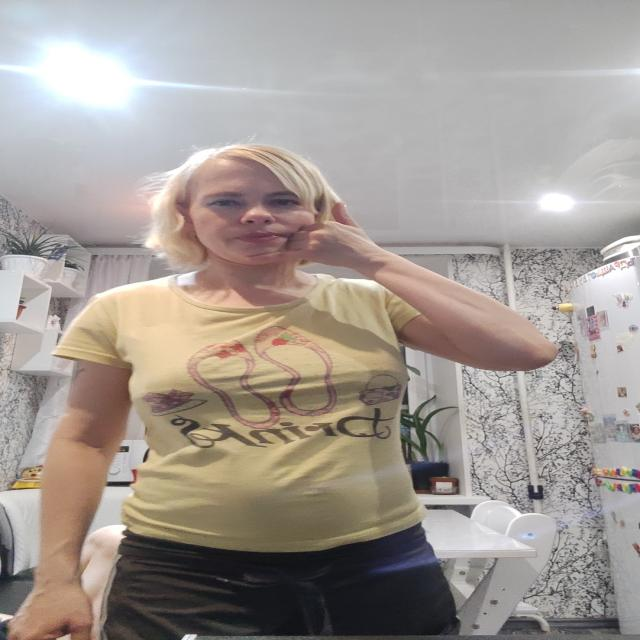call: (242, 200, 377, 268)
